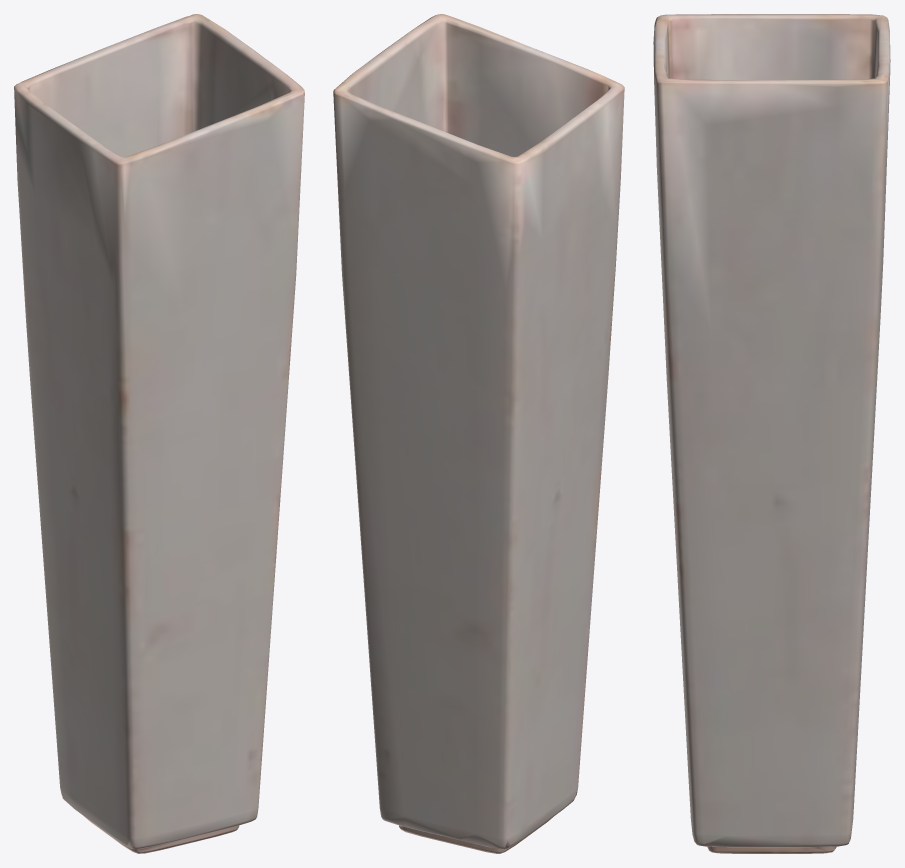
The model's file is vase.glb.
The picture shows the model from 3 angles, left to right: view 1: azimuth 30°, elevation 25°; view 2: azimuth 150°, elevation 25°; view 3: azimuth 270°, elevation 25°; orthographic projection. The views are drawn at different scales.
Parts seen in each view (by area): view 1: ceramic_vase_03; view 2: ceramic_vase_03; view 3: ceramic_vase_03.
Part boxes in pixels (x1=…): ceramic_vase_03: x1=14, y1=14, x2=304, y2=853; ceramic_vase_03: x1=333, y1=14, x2=624, y2=853; ceramic_vase_03: x1=653, y1=14, x2=890, y2=853.
Size of the model in its own units: 0.112 by 0.4143 by 0.1121.
Materials: 1 (1 with a texture image).
